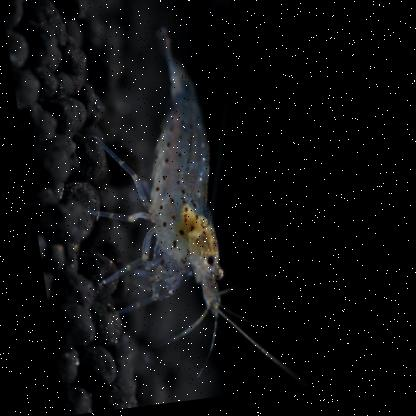shrimp: (73, 23, 227, 346)
